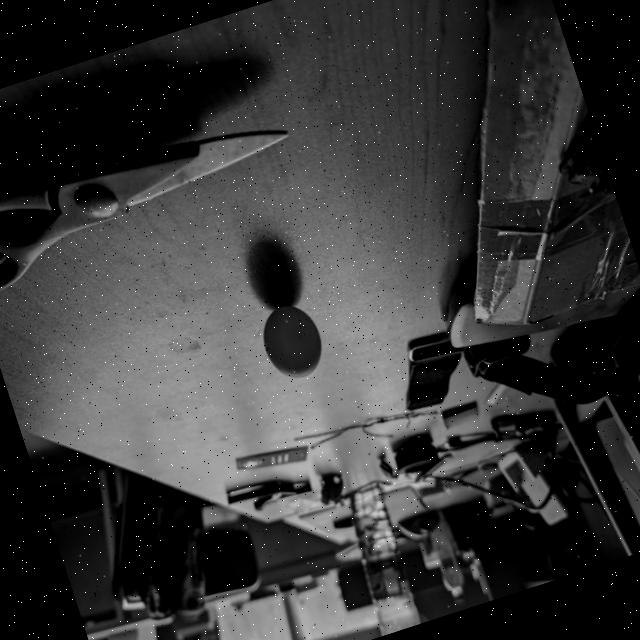ping-pong-ball: (250, 294, 330, 388)
